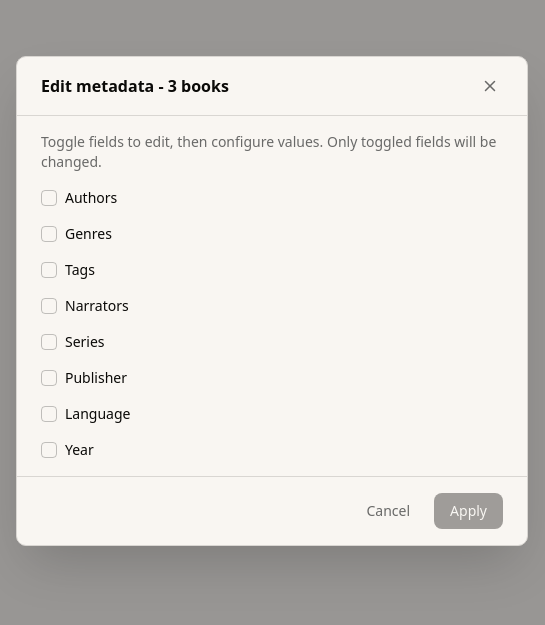
Test: BulkEditMetadataDialog › canConfirm logic › enables Apply when Clear mode is selected (no values needed)
Click the button "Authors" at [91, 198], box [41,188,503,208]
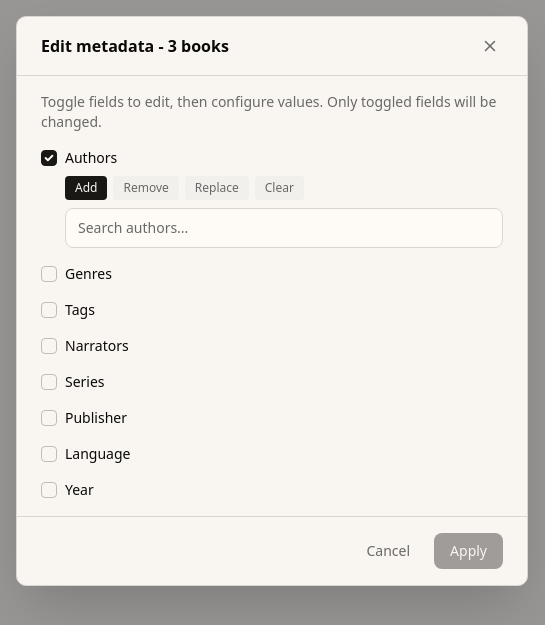
Click the button "Clear" at [279, 188], box [255,176,304,200]
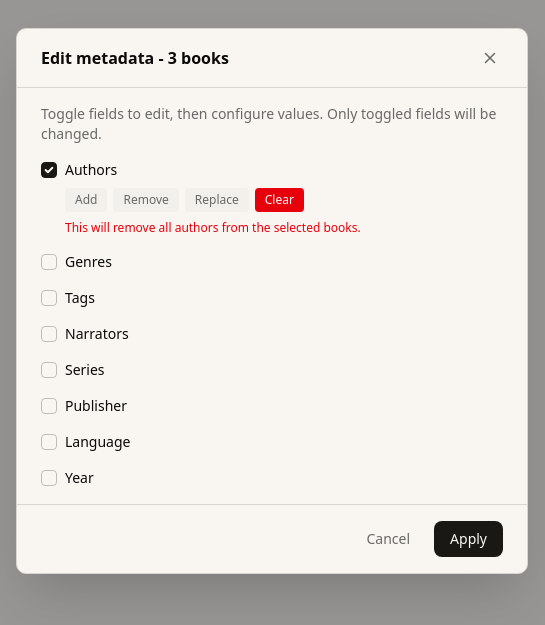
Now the button "Apply" is enabled, box [434,521,503,557]
